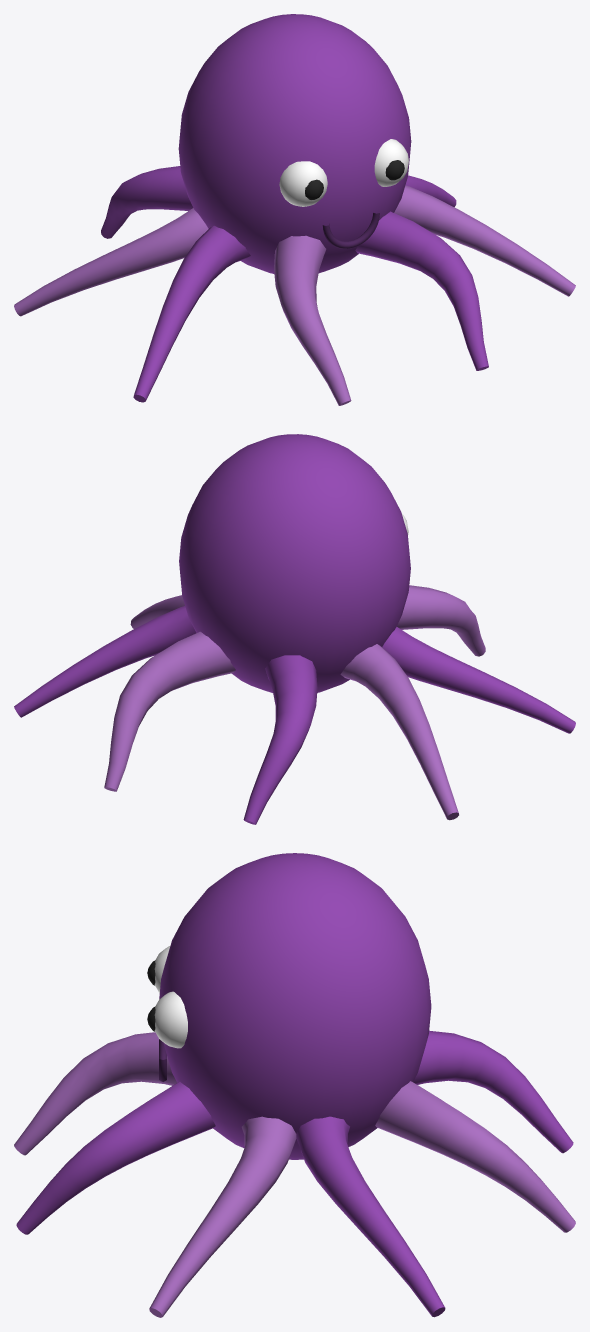
File: octopus.glb
3 views of the same model, one above another, from view 1: azimuth 30°, elevation 25°; view 2: azimuth 150°, elevation 25°; view 3: azimuth 270°, elevation 25° (orthographic). The views are drawn at different scales.
Parts seen in each view (by area): view 1: octopus; view 2: octopus; view 3: octopus.
Part boxes in pixels (x1,y1,x2,y2): octopus: (14,14,575,405); octopus: (14,434,575,824); octopus: (14,853,575,1317).
Size of the model in its own units: 2.64 by 1.6 by 2.47.
